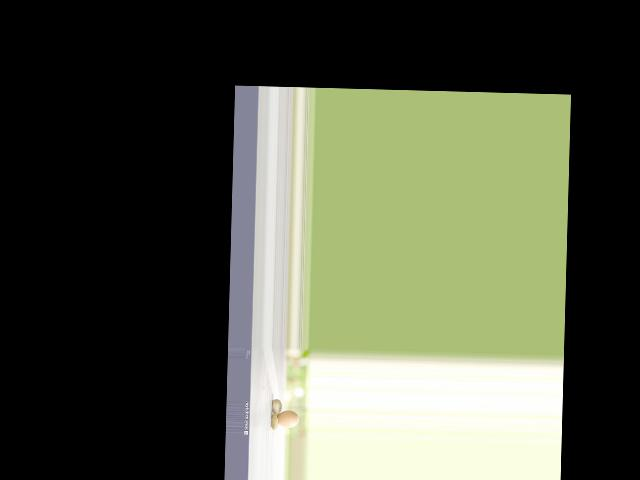egg: (277, 409, 298, 428)
